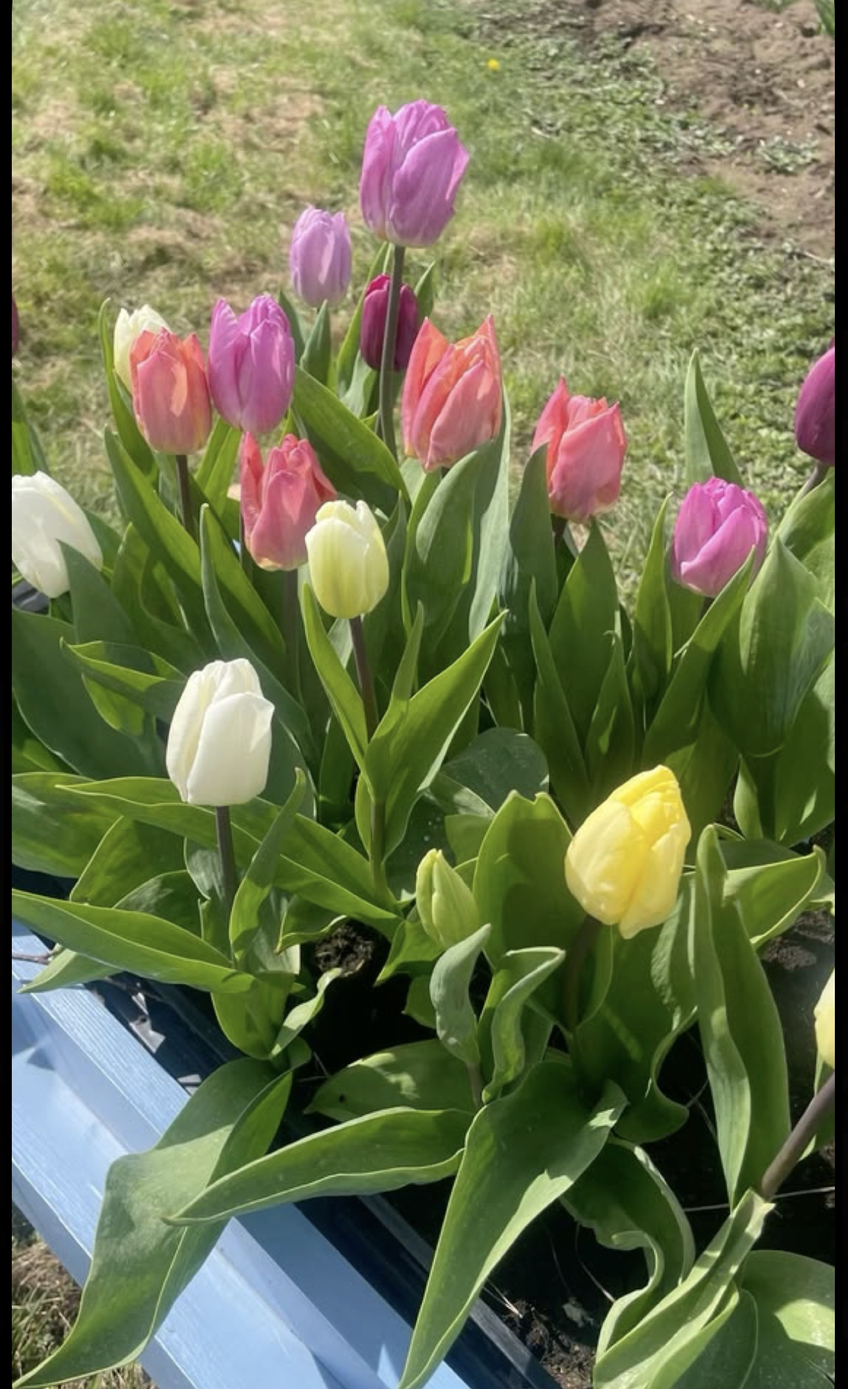tulip: (556, 758, 702, 938), (389, 311, 514, 488), (158, 650, 285, 816), (511, 375, 634, 538), (357, 92, 474, 256), (230, 421, 339, 586), (9, 448, 112, 607), (194, 281, 296, 441), (659, 470, 771, 611), (302, 490, 399, 627), (120, 322, 215, 461), (285, 201, 357, 311), (359, 267, 420, 381), (107, 299, 174, 398)
